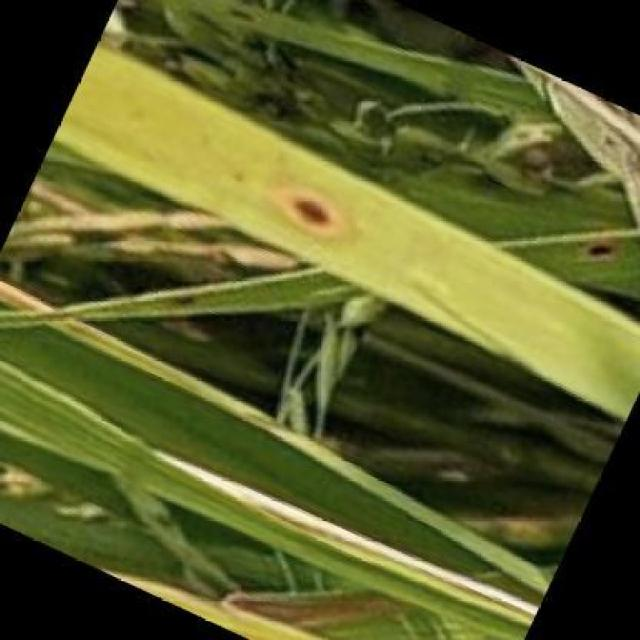Leaf_Blast: (243, 159, 354, 252), (575, 225, 630, 277)
